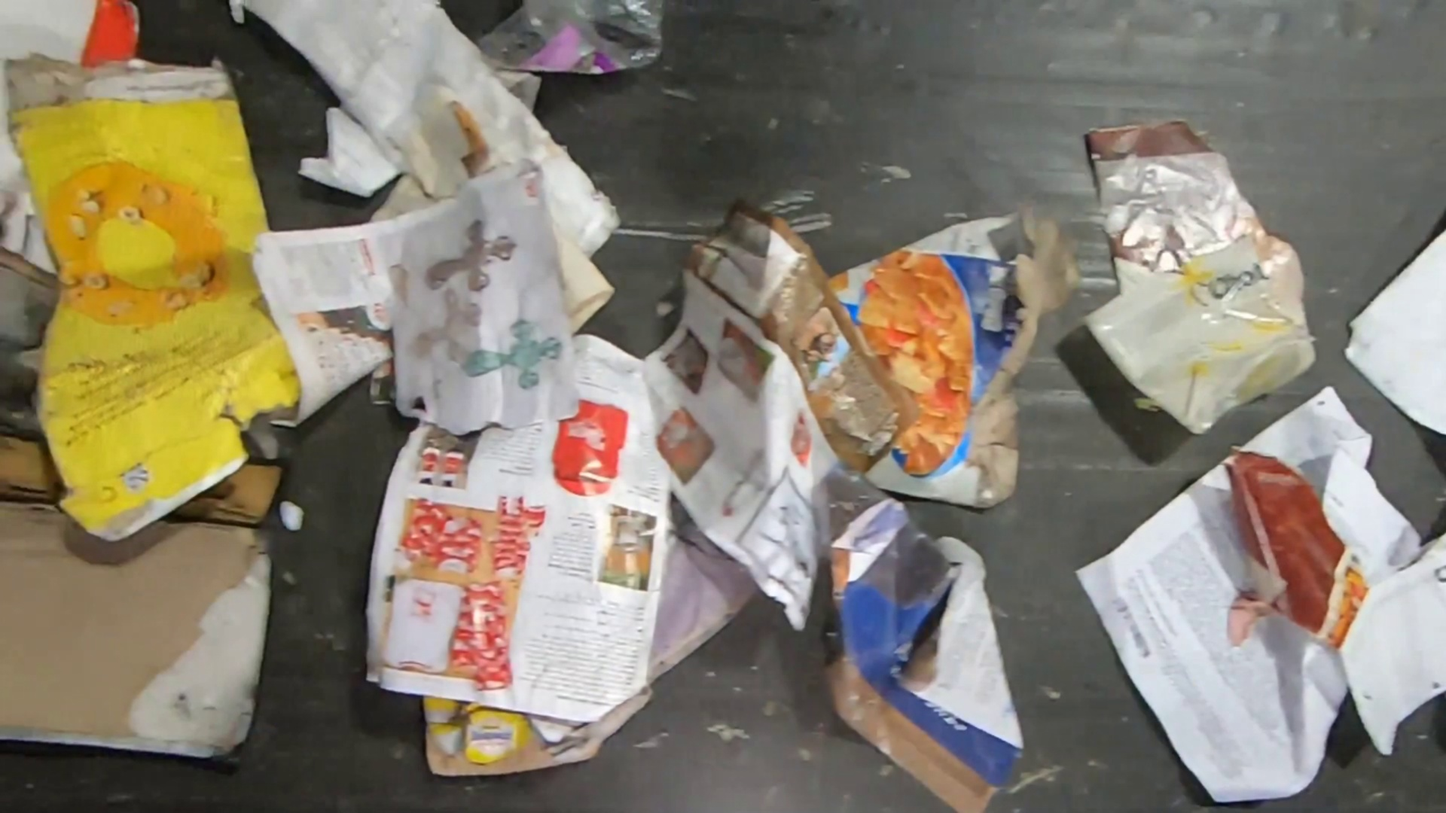cardboard: (0, 50, 303, 544), (826, 205, 1084, 510), (0, 500, 274, 761), (421, 684, 657, 776), (169, 463, 287, 524), (0, 434, 64, 503)
plastic: (1079, 217, 1319, 436), (474, 0, 666, 76)
